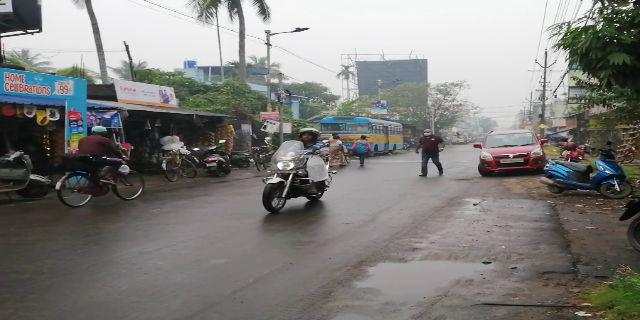Bus: (326, 115, 404, 156)
Car: (477, 126, 546, 171)
Motorbike: (250, 131, 337, 213), (550, 159, 632, 198)
